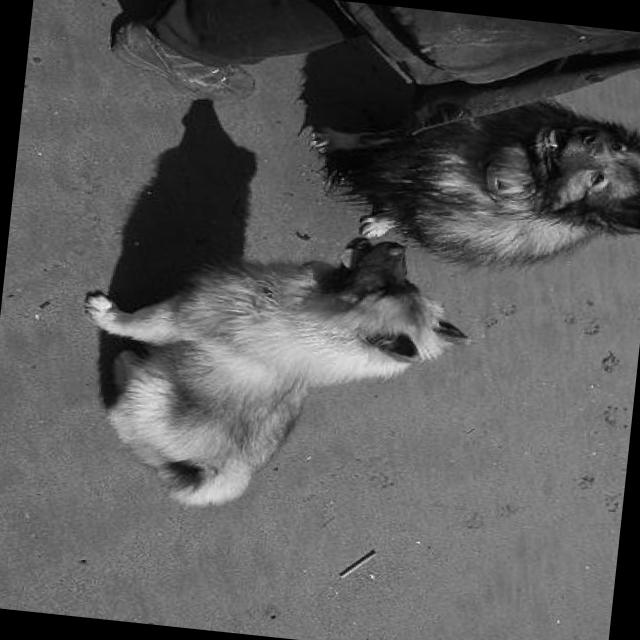sitting: (61, 198, 480, 533), (297, 74, 640, 284)
